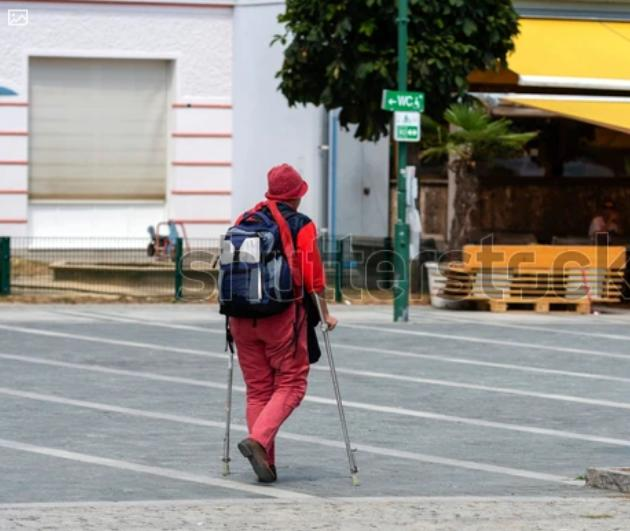crutches: (217, 163, 361, 486)
